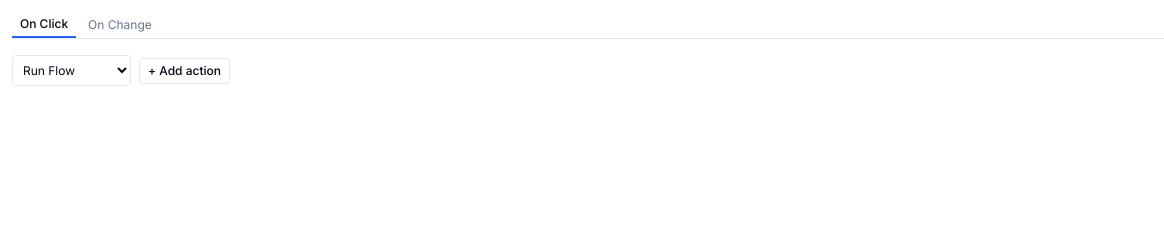
Scenario: EventListField › renders one tab per supportedEvents entry and can switch tabs
This screenshot has width=1164, height=231.
Check: the tab with test id "event-tab-onClick" is shown, box [12, 12, 76, 38]
Click the tab with test id "event-tab-onChange" at {"x": 120, "y": 25}, box [80, 12, 160, 38]
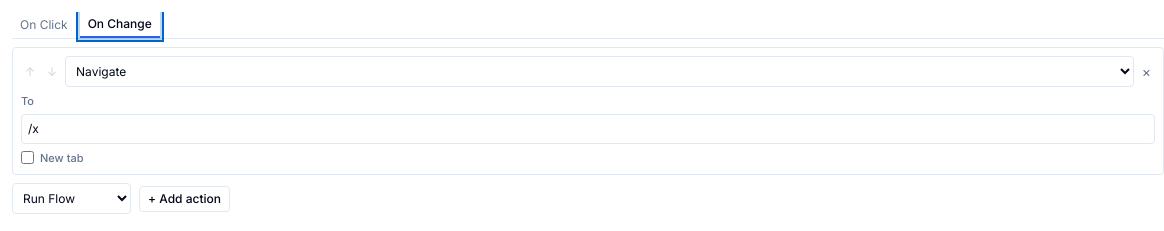
Check: the list item with test id "event-row-onChange-0" is shown, box [12, 47, 1163, 175]
